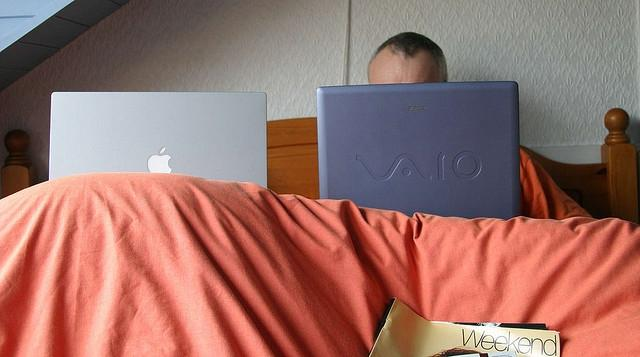apple: (147, 147, 171, 174)
